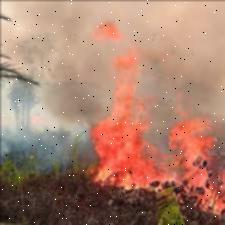fire: (82, 11, 155, 190), (165, 107, 225, 215)
